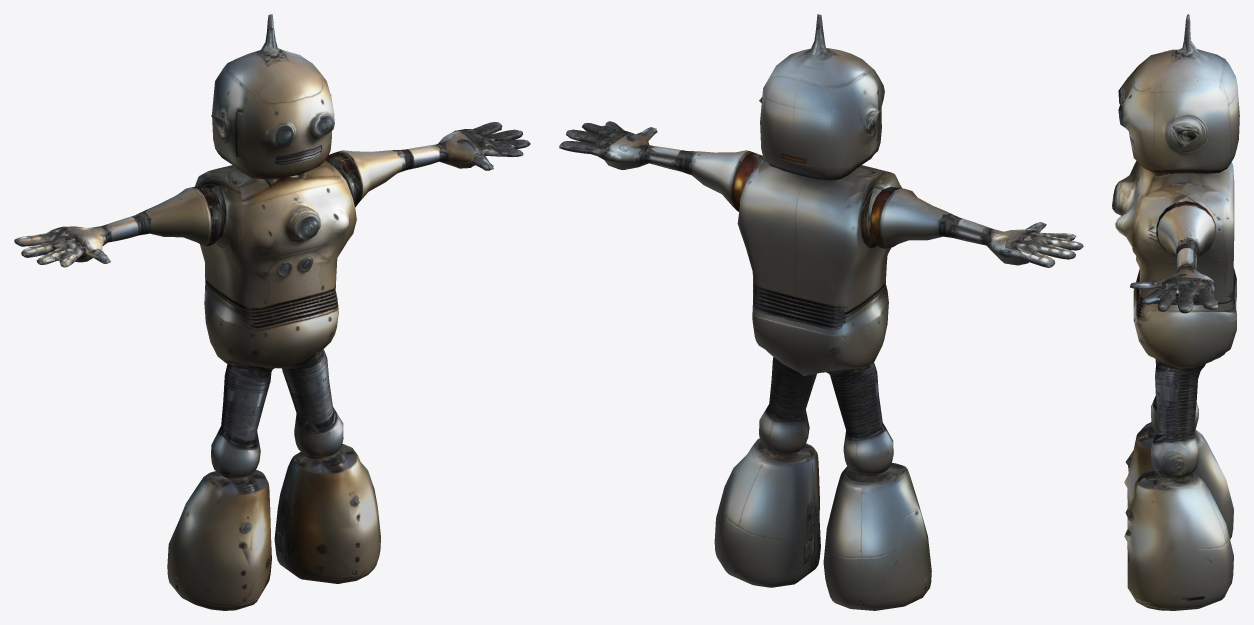
File: Robot.fbx
The picture shows the model from 3 angles, left to right: view 1: azimuth 30°, elevation 25°; view 2: azimuth 150°, elevation 25°; view 3: azimuth 270°, elevation 25°; orthographic projection. The views are drawn at different scales.
Parts seen in each view (by area): view 1: Mesh_0; view 2: Mesh_0; view 3: Mesh_0.
Part boxes in pixels (<box>): Mesh_0: <box>14,14,530,610</box>; Mesh_0: <box>559,14,1083,610</box>; Mesh_0: <box>1112,14,1239,610</box>.
Size of the model in its own units: 185 by 199 by 41.41.
1 material, 1 textured.
